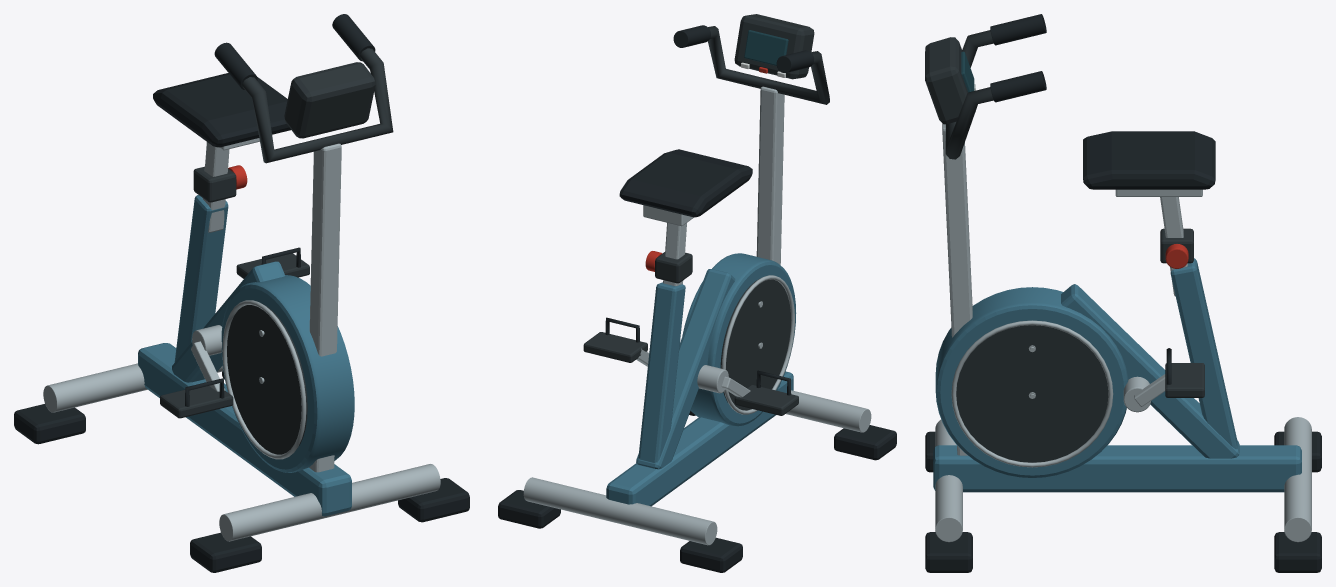
Rendered from city-stationary-exercise-bike.glb.
3 views of the same model, side by side, from view 1: azimuth 30°, elevation 25°; view 2: azimuth 150°, elevation 25°; view 3: azimuth 270°, elevation 25° (orthographic). The views are drawn at different scales.
Parts seen in each view (by area): view 1: Assembly | Muted blue enamel, Assembly | Dark molded body, Assembly | Satin tubular steel, Assembly | Matte rubber and pads; view 2: Assembly | Muted blue enamel, Assembly | Satin tubular steel, Assembly | Dark molded body, Assembly | Matte rubber and pads, Assembly | Opaque inactive display; view 3: Assembly | Muted blue enamel, Assembly | Dark molded body, Assembly | Matte rubber and pads, Assembly | Satin tubular steel.
Part boxes in pixels (x1,y1,x2,y2): Assembly | Muted blue enamel: (138, 195, 354, 516); Assembly | Dark molded body: (160, 48, 393, 454); Assembly | Satin tubular steel: (43, 138, 440, 541); Assembly | Matte rubber and pads: (14, 14, 469, 572); Assembly | Muted blue enamel: (606, 253, 796, 506); Assembly | Satin tubular steel: (523, 86, 871, 545); Assembly | Dark molded body: (583, 14, 829, 415); Assembly | Matte rubber and pads: (498, 25, 896, 572); Assembly | Opaque inactive display: (744, 30, 788, 65); Assembly | Muted blue enamel: (933, 258, 1301, 492); Assembly | Dark molded body: (925, 30, 1204, 462); Assembly | Matte rubber and pads: (925, 14, 1321, 572); Assembly | Satin tubular steel: (935, 123, 1311, 542).
Size of the model in its own units: 0.75 by 1.3 by 1.
